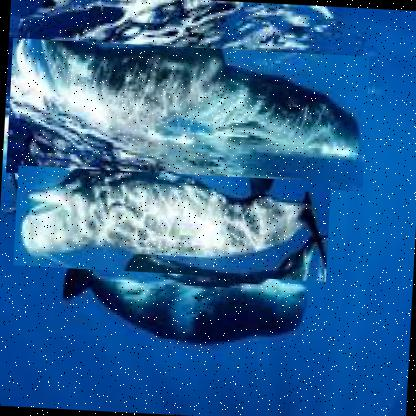sperm_whale: (5, 38, 370, 192), (11, 165, 330, 282)
